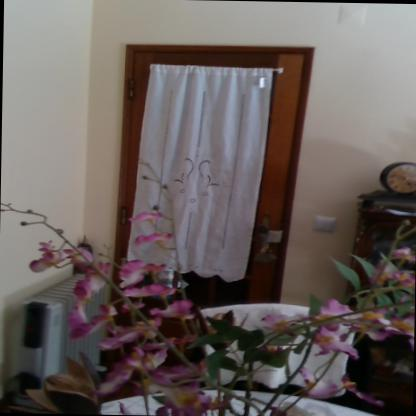closed: (104, 36, 321, 415)
